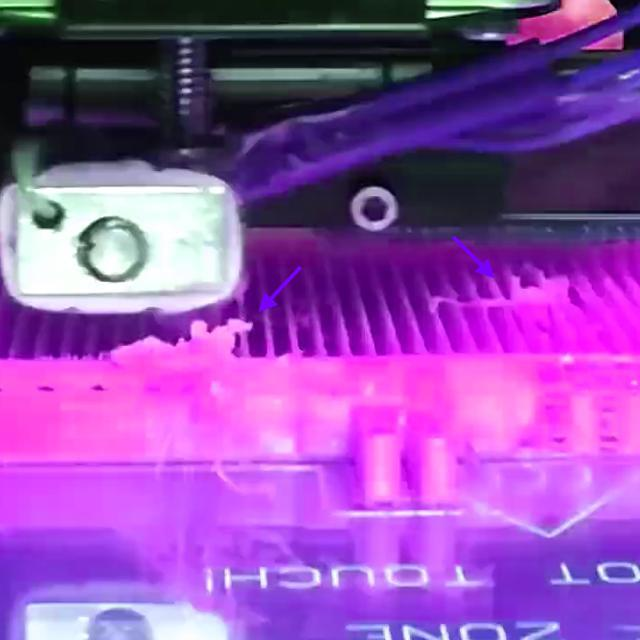Spaghetti: (109, 316, 256, 369), (427, 276, 568, 310)
